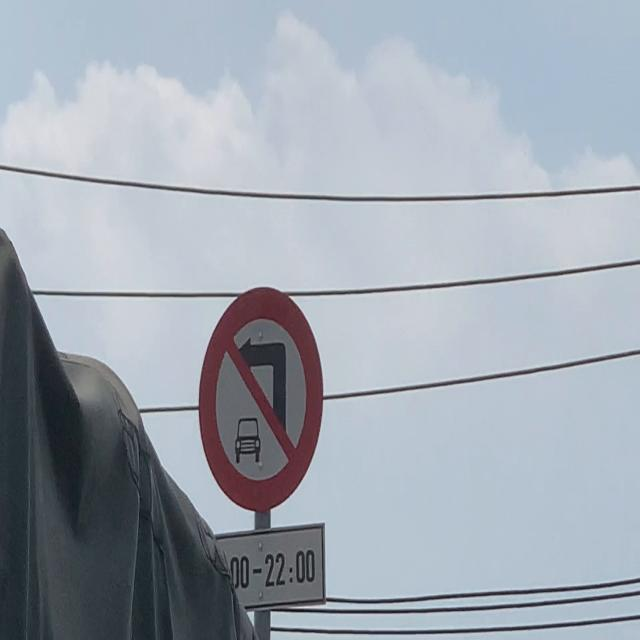Cam re trai: (208, 288, 325, 508)
